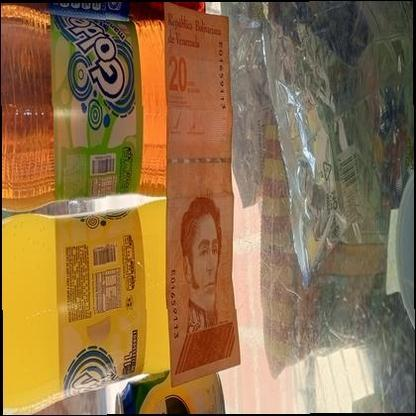twenty-front-vef: (162, 3, 242, 388)
